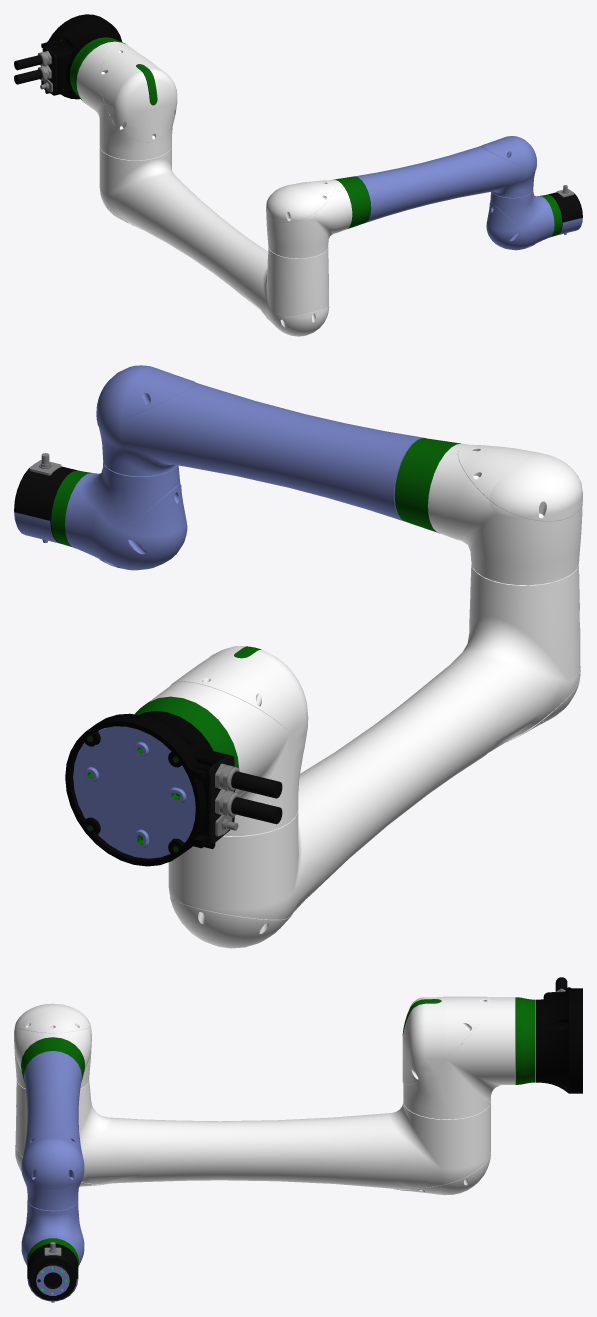
The model's file is fanuc_CRX_10iA_L.fbx.
3 renders of one model, top to bottom at view 1: azimuth 30°, elevation 25°; view 2: azimuth 150°, elevation 25°; view 3: azimuth 270°, elevation 25°, orthographic. The views are drawn at different scales.
Parts seen in each view (by area): view 1: CRX-10iAL_Axis2, CRX-10iAL_Axis1, CRX-10iAL_Axis4, CRX-10iAL_Axis3, CRX-10iAL_Axis5, CRX-10iAL_Base, CRX-10iAL_Axis6_WithConnectors, CORDGRIP.001, CORDGRIP; view 2: CRX-10iAL_Axis2, CRX-10iAL_Axis4, CRX-10iAL_Axis3, CRX-10iAL_Base, CRX-10iAL_Axis1, CRX-10iAL_Axis5, CRX-10iAL_Axis6_WithConnectors, CORDGRIP, CORDGRIP.001, J1PLATE; view 3: CRX-10iAL_Axis2, CRX-10iAL_Axis1, CRX-10iAL_Axis4, CRX-10iAL_Base, CRX-10iAL_Axis3, CRX-10iAL_Axis5, CRX-10iAL_Axis6_WithConnectors.
Part boxes in pixels (x1,y1,x2,y2): CRX-10iAL_Axis2: [99, 144, 329, 336]; CRX-10iAL_Axis1: [69, 37, 177, 160]; CRX-10iAL_Axis4: [354, 136, 536, 222]; CRX-10iAL_Axis3: [266, 176, 370, 258]; CRX-10iAL_Axis5: [486, 190, 562, 250]; CRX-10iAL_Base: [41, 14, 121, 99]; CRX-10iAL_Axis6_WithConnectors: [548, 185, 582, 235]; CORDGRIP.001: [14, 65, 51, 84]; CORDGRIP: [14, 51, 51, 70]; CRX-10iAL_Axis2: [168, 563, 580, 948]; CRX-10iAL_Axis4: [96, 365, 425, 521]; CRX-10iAL_Axis3: [394, 438, 582, 585]; CRX-10iAL_Base: [65, 711, 229, 866]; CRX-10iAL_Axis1: [135, 646, 308, 835]; CRX-10iAL_Axis5: [51, 462, 187, 570]; CRX-10iAL_Axis6_WithConnectors: [14, 453, 77, 543]; CORDGRIP: [215, 763, 282, 798]; CORDGRIP.001: [215, 789, 282, 824]; J1PLATE: [209, 755, 234, 843]; CRX-10iAL_Axis2: [15, 1080, 490, 1195]; CRX-10iAL_Axis1: [402, 996, 535, 1119]; CRX-10iAL_Axis4: [21, 1051, 84, 1210]; CRX-10iAL_Base: [535, 987, 582, 1093]; CRX-10iAL_Axis3: [14, 1003, 91, 1088]; CRX-10iAL_Axis5: [21, 1200, 84, 1266]; CRX-10iAL_Axis6_WithConnectors: [27, 1242, 78, 1302].
Size of the model in its own units: 88.2 by 39.34 by 103.
